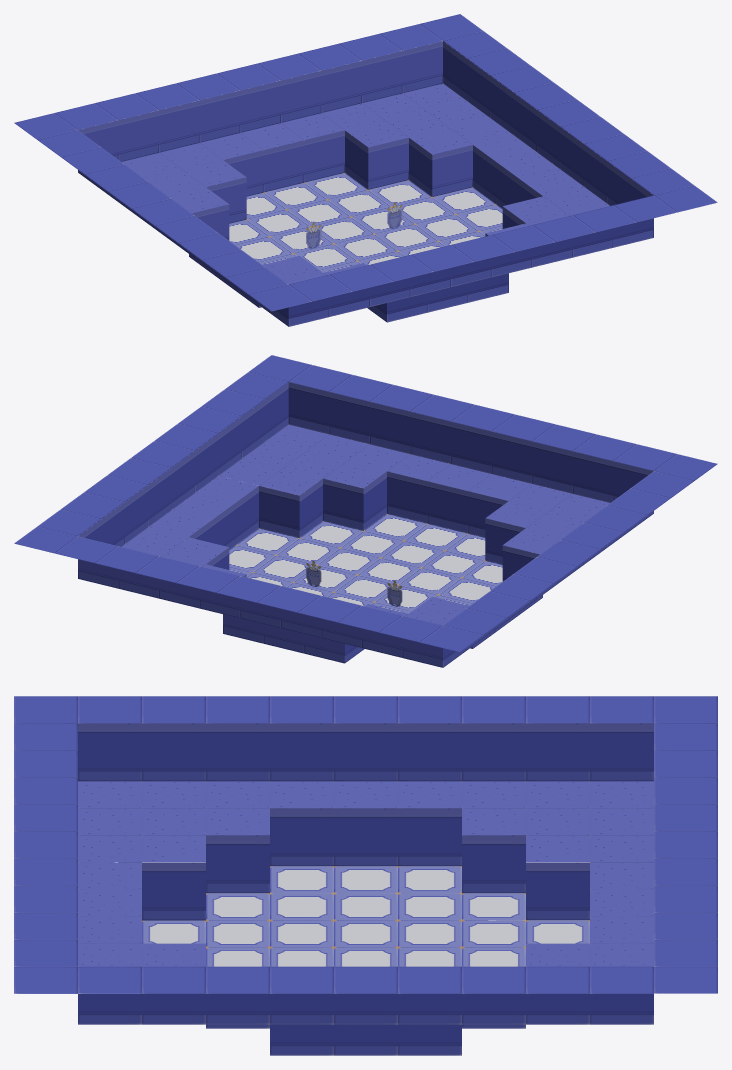
The model's file is Palace-Test-2.obj.
3 views of the same model, one above another, from view 1: azimuth 30°, elevation 25°; view 2: azimuth 150°, elevation 25°; view 3: azimuth 270°, elevation 25° (orthographic). The views are drawn at different scales.
Parts seen in each view (by area): view 1: Default; view 2: Default; view 3: Default.
Boxes of the visible parts, bbox=[...] form: Default: bbox=[14, 14, 717, 326]; Default: bbox=[14, 355, 717, 667]; Default: bbox=[14, 696, 717, 1055].
Size of the model in its own units: 33 by 6 by 33.
